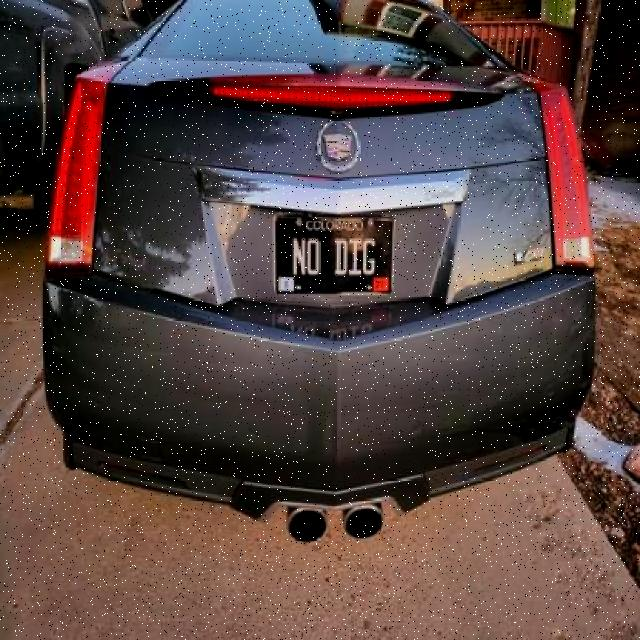licenseplate: (273, 211, 395, 297)
